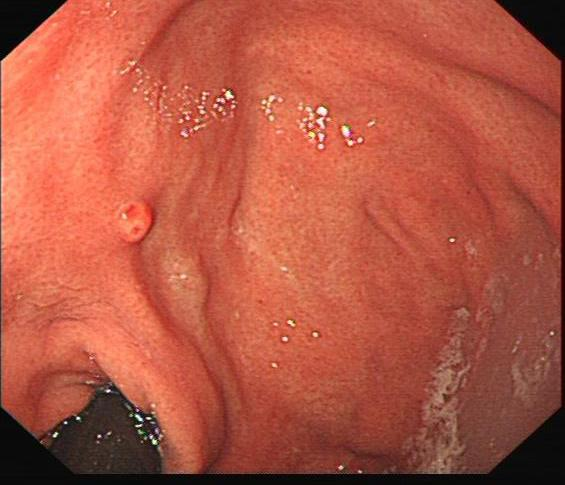Polyp: (105, 192, 166, 254)
